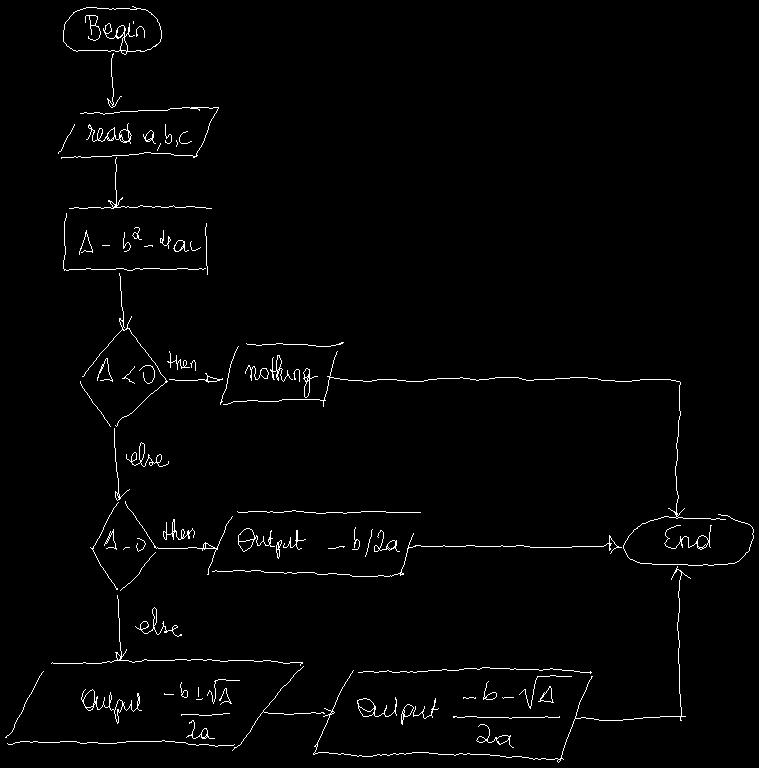arrow: (327, 376, 684, 516), (576, 566, 690, 720), (407, 535, 621, 553), (114, 428, 129, 500), (107, 53, 121, 107), (115, 595, 126, 660), (108, 157, 122, 207), (119, 273, 131, 330), (264, 708, 334, 716), (156, 542, 217, 550), (169, 373, 222, 382)
data: (5, 659, 303, 750), (313, 667, 592, 762), (207, 510, 420, 576), (58, 107, 218, 158), (220, 342, 343, 406)
decision: (80, 328, 167, 426), (90, 501, 155, 590)
process: (63, 205, 211, 274)
terminator: (623, 514, 753, 565), (63, 6, 161, 51)
text: (357, 675, 571, 747), (81, 679, 239, 738), (238, 527, 399, 558), (79, 227, 200, 254), (245, 355, 317, 397), (86, 123, 191, 150), (85, 15, 144, 54), (97, 358, 154, 383), (135, 607, 181, 636), (664, 525, 711, 549), (126, 442, 168, 466), (104, 529, 145, 551), (163, 519, 194, 539), (167, 351, 195, 370)
